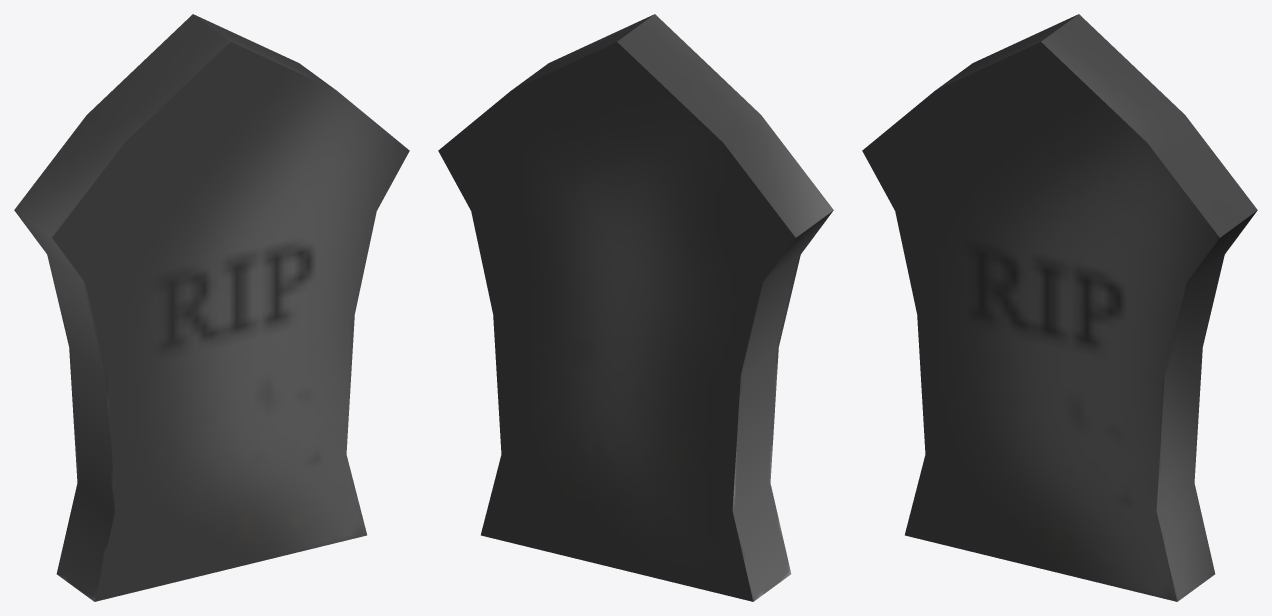
File: Tumulo_4.glb
3 renders of one model, left to right at view 1: azimuth 30°, elevation 25°; view 2: azimuth 150°, elevation 25°; view 3: azimuth 330°, elevation 25°, orthographic.
Visible parts, largest first — view 1: Tumulo.4; view 2: Tumulo.4; view 3: Tumulo.4.
Boxes of the visible parts, left/top/right/bottom form: Tumulo.4: left=14, top=14, right=409, bottom=601; Tumulo.4: left=438, top=14, right=833, bottom=601; Tumulo.4: left=862, top=14, right=1257, bottom=601.
Size of the model in its own units: 0.5538 by 0.7794 by 0.1018.
Materials: 1 (1 with a texture image).
